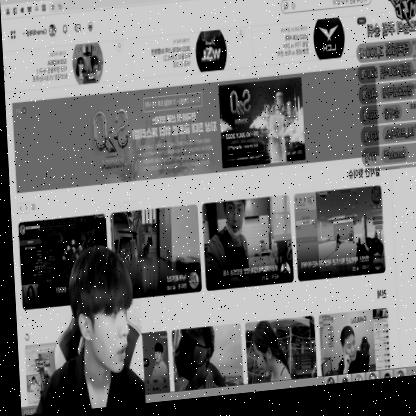streamer: (10, 244, 142, 416)
